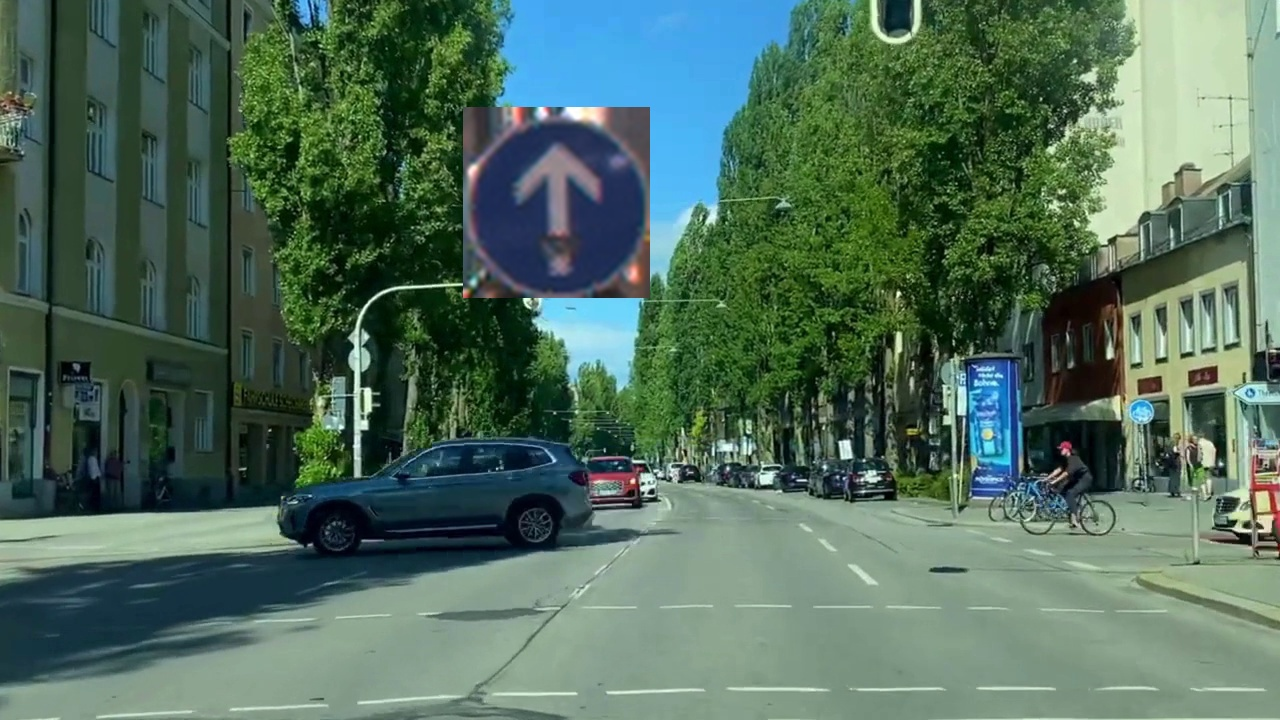Ahead only: (463, 107, 650, 298)
